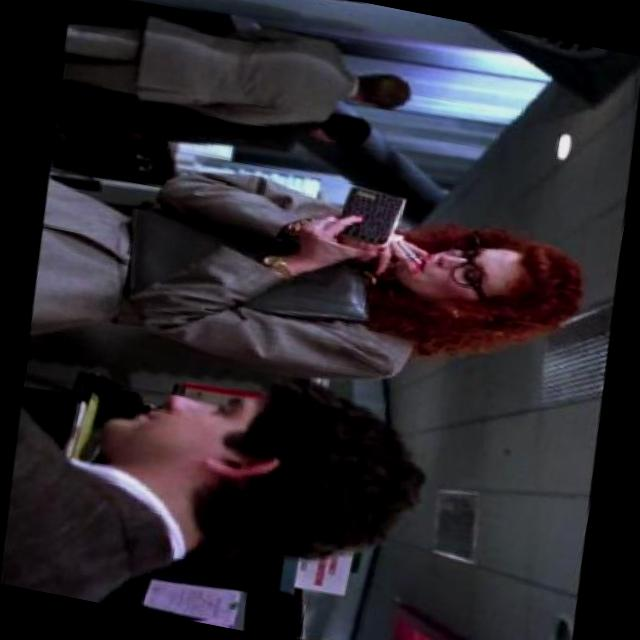smoke: (388, 240, 426, 268)
